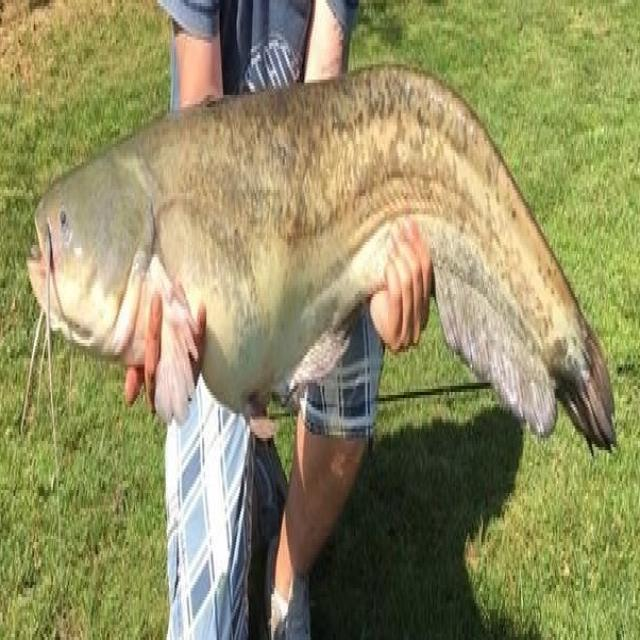Catfish: (18, 43, 622, 545)
